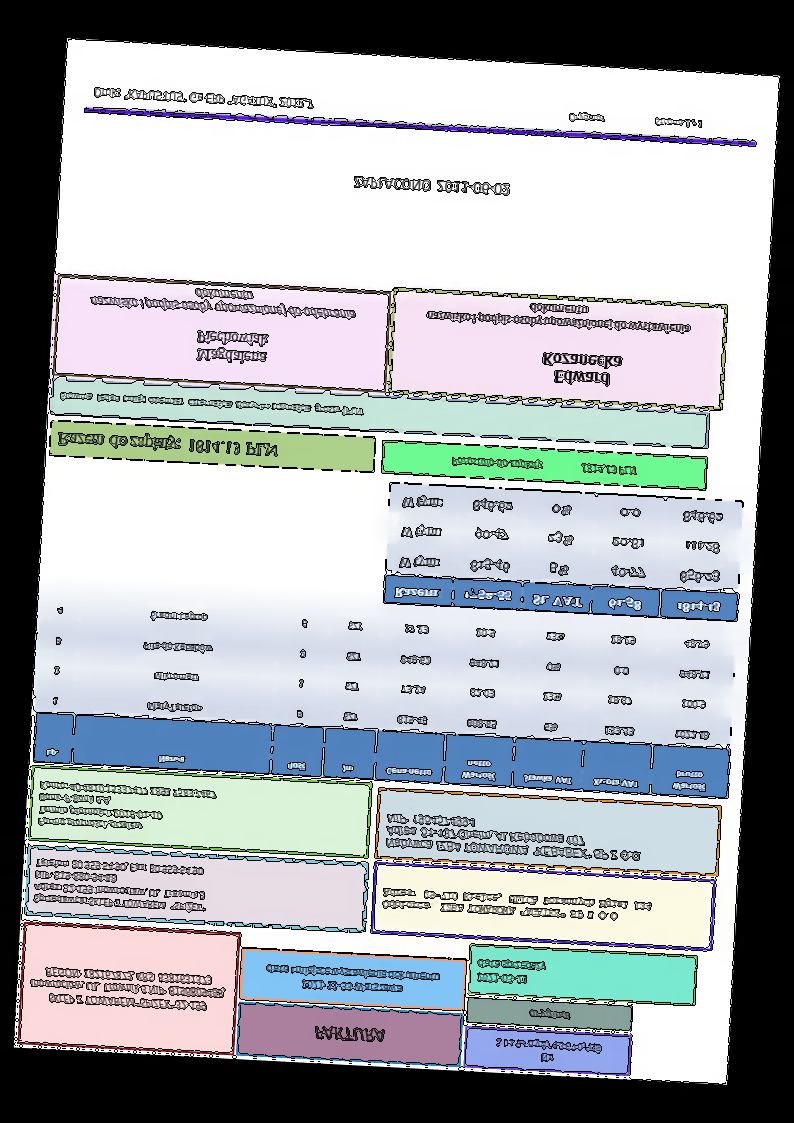Table: (29, 588, 739, 801), (381, 479, 746, 621)
TextBox: (380, 809, 649, 868), (423, 293, 695, 340), (379, 882, 656, 928), (54, 386, 369, 425), (86, 281, 360, 325), (34, 775, 219, 839), (30, 855, 209, 916), (25, 962, 230, 1015), (52, 427, 278, 463), (88, 80, 317, 114), (262, 961, 443, 1001), (349, 167, 517, 204), (448, 451, 642, 482), (538, 346, 625, 394), (492, 1032, 605, 1068), (564, 109, 706, 135), (192, 325, 271, 369), (472, 952, 548, 992), (310, 1022, 386, 1048), (526, 1005, 574, 1023)
